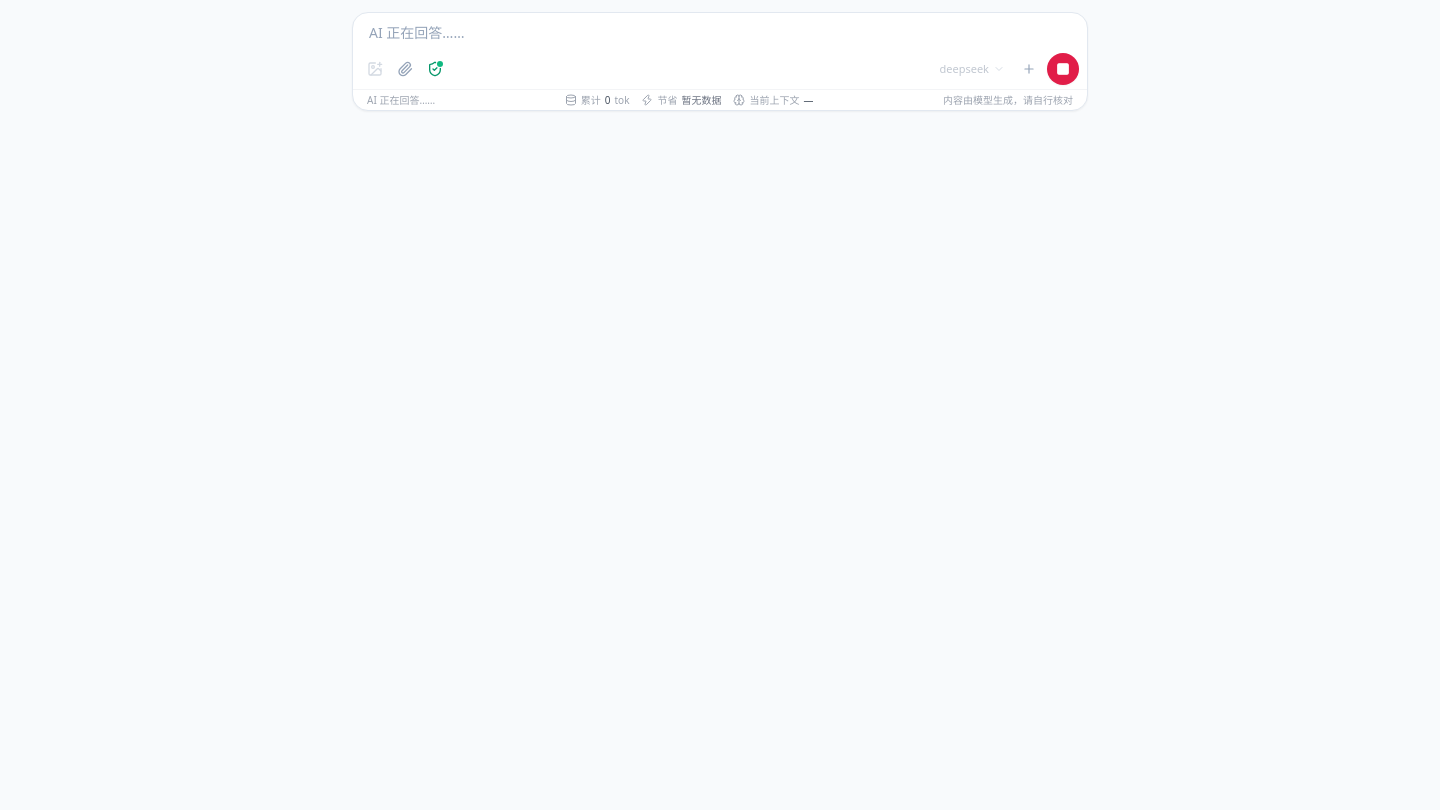
Test case: 输入框右下角的模型选择器 › 正在生成时：模型按钮禁用，但「添加模型」仍可打开弹窗
This screenshot has width=1440, height=810.
Expected: the button with aria-label "选择模型" is disabled, [934,57,1011,81]
Click the button named "模型管理" at {"x": 1029, "y": 69}, box [1015,55,1043,83]
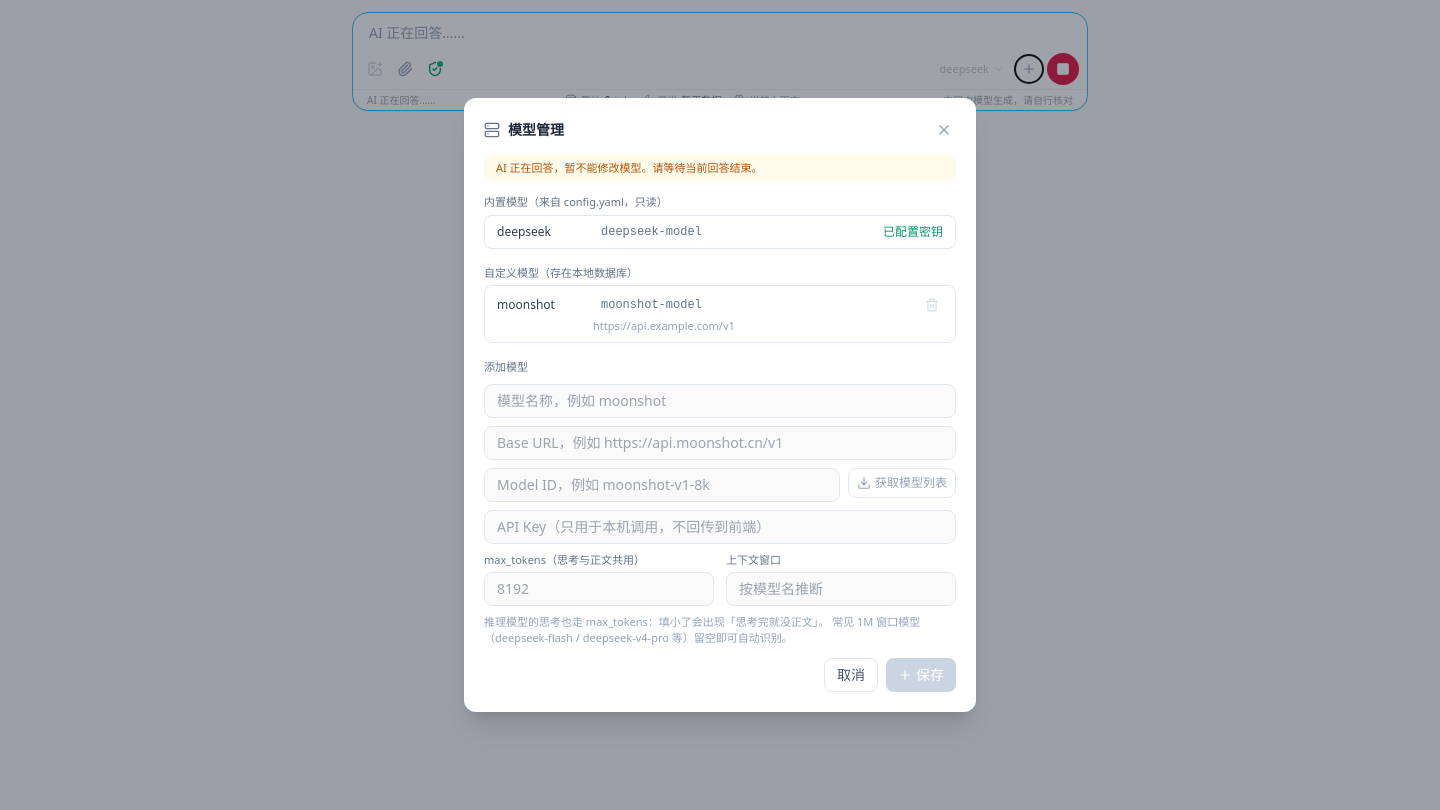
Now the dialog "模型管理" is shown, box [464,98,976,712]
